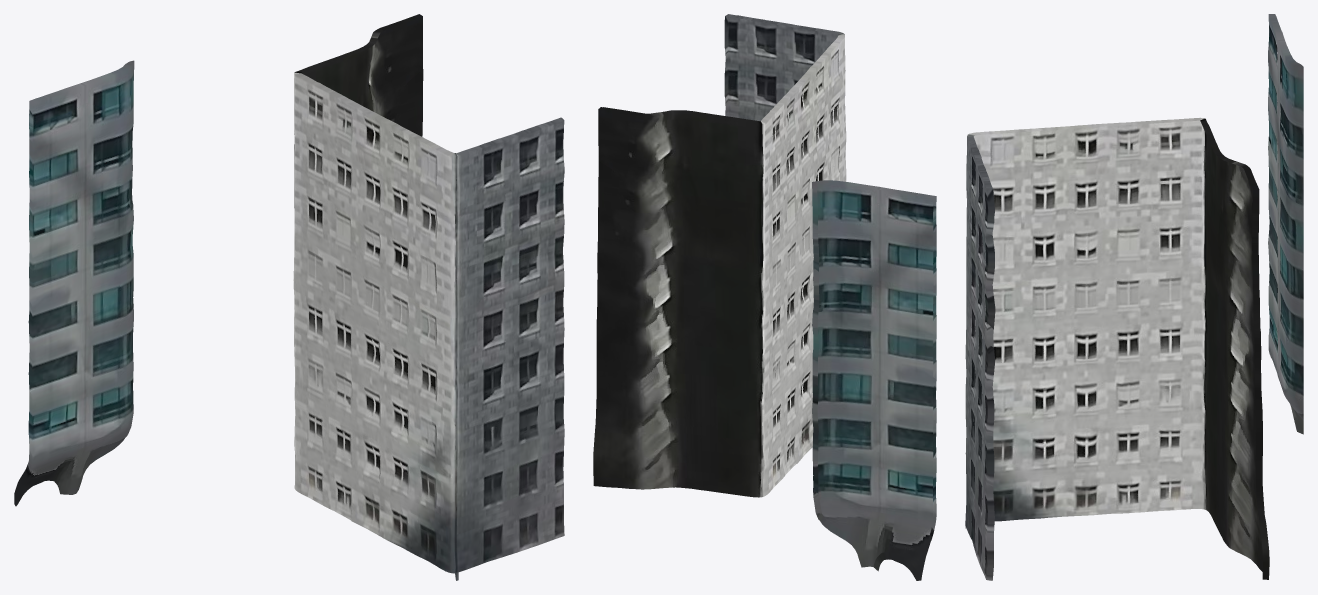
File: z20-167769-405238-h1-yup-uvflip-v3-world.glb
3 views of the same model, side by side, from view 1: azimuth 30°, elevation 25°; view 2: azimuth 150°, elevation 25°; view 3: azimuth 270°, elevation 25° (orthographic). The views are drawn at different scales.
Bounding box in the file's own units: 30.2 × 32 × 24.64.
Materials: 1 (1 with a texture image).
